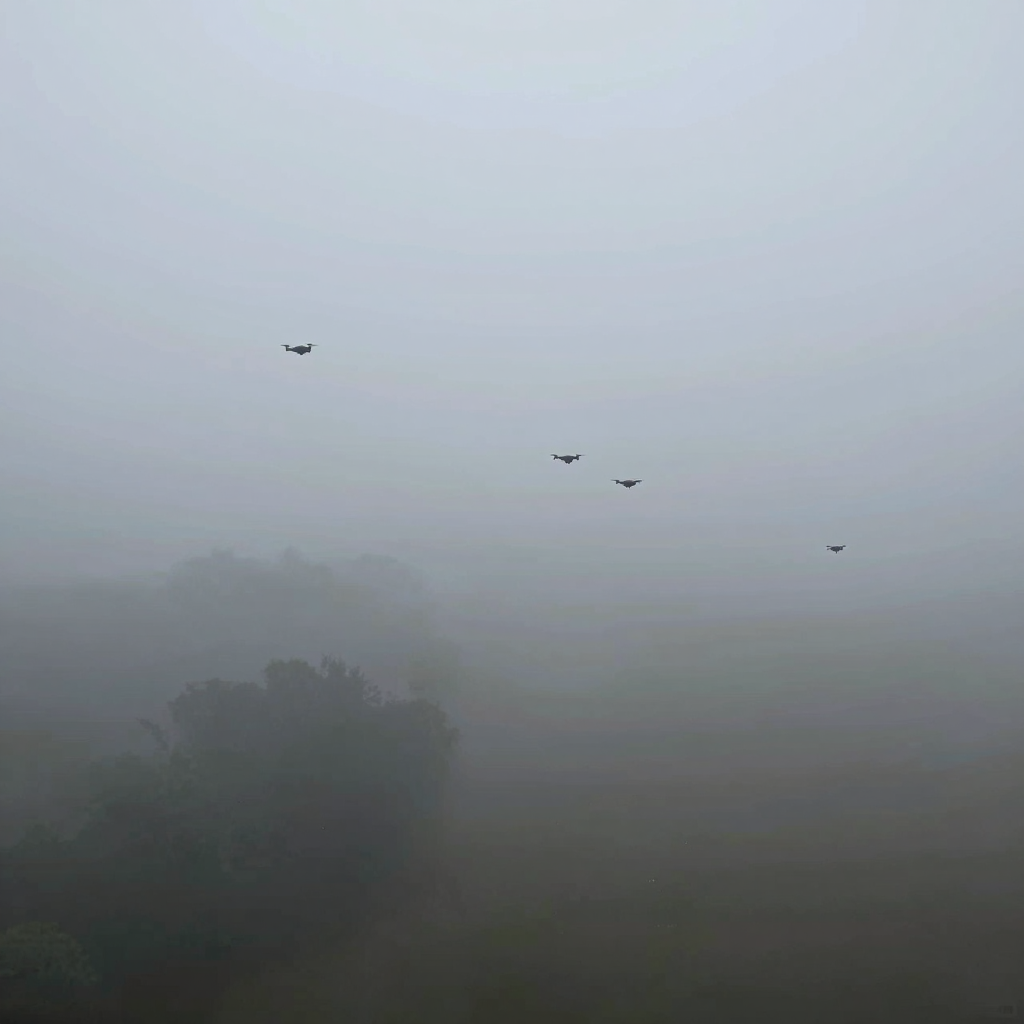drone: (280, 343, 319, 355), (550, 454, 586, 464), (611, 479, 643, 489), (826, 545, 846, 554)
